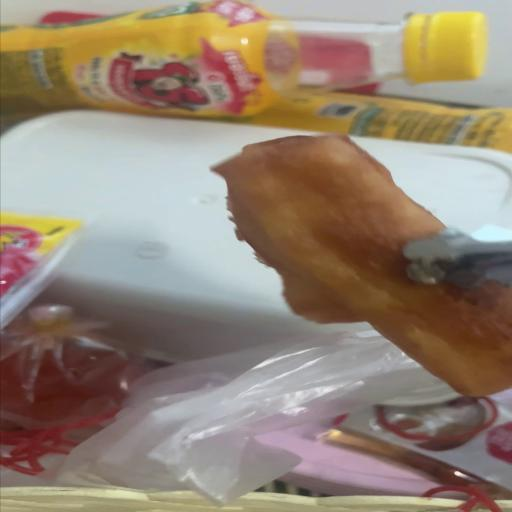street_burnt_defect: (216, 133, 512, 400)
